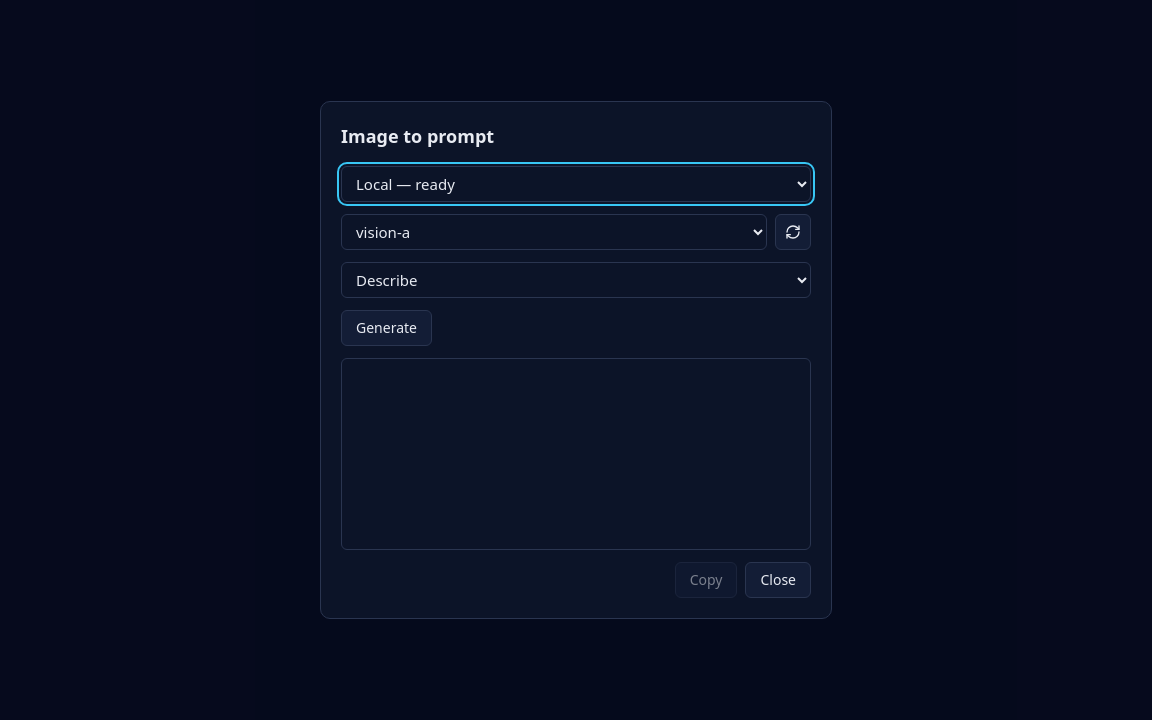
while running Generate is disabled and Cancel sends analysis:cancelDescribe; the late answer is dropped
Expected: the dropdown named "Prompt model" shows "vision-a", [341,214,767,250]
Click the button "Generate".
click(386, 328)  # box [341,310,432,346]
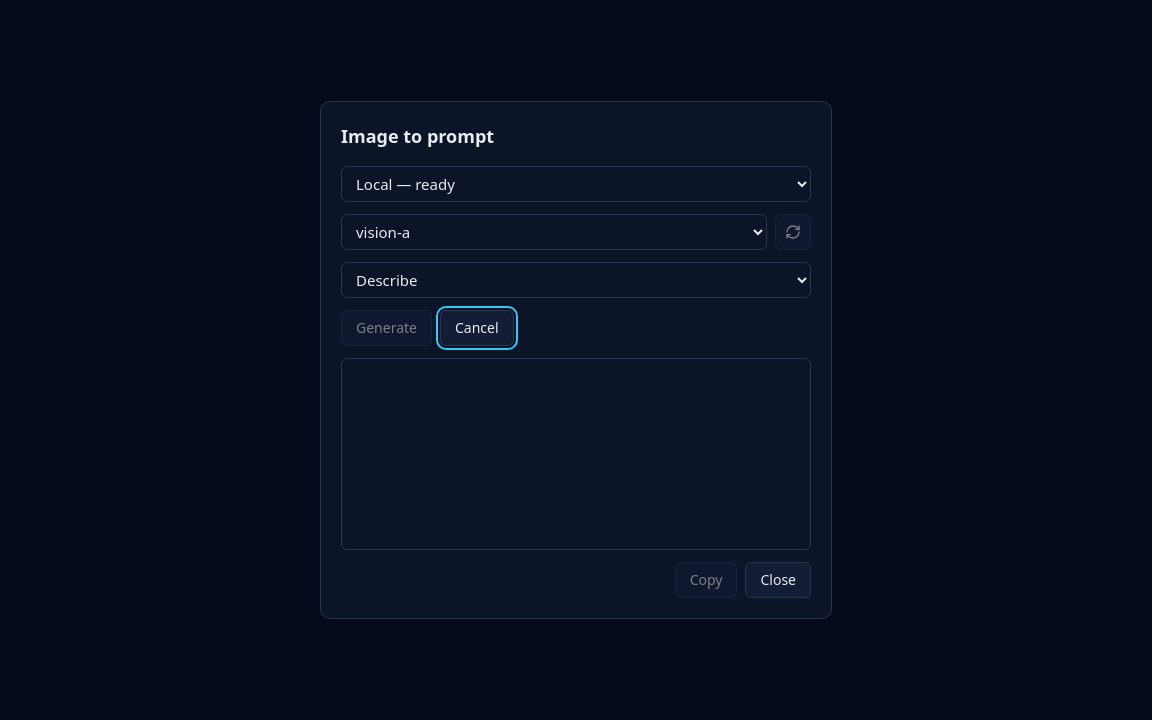
Result: the button "Generate" is disabled at [341,310,432,346]
Click the button "Cancel".
click(477, 328)  # box [440,310,514,346]
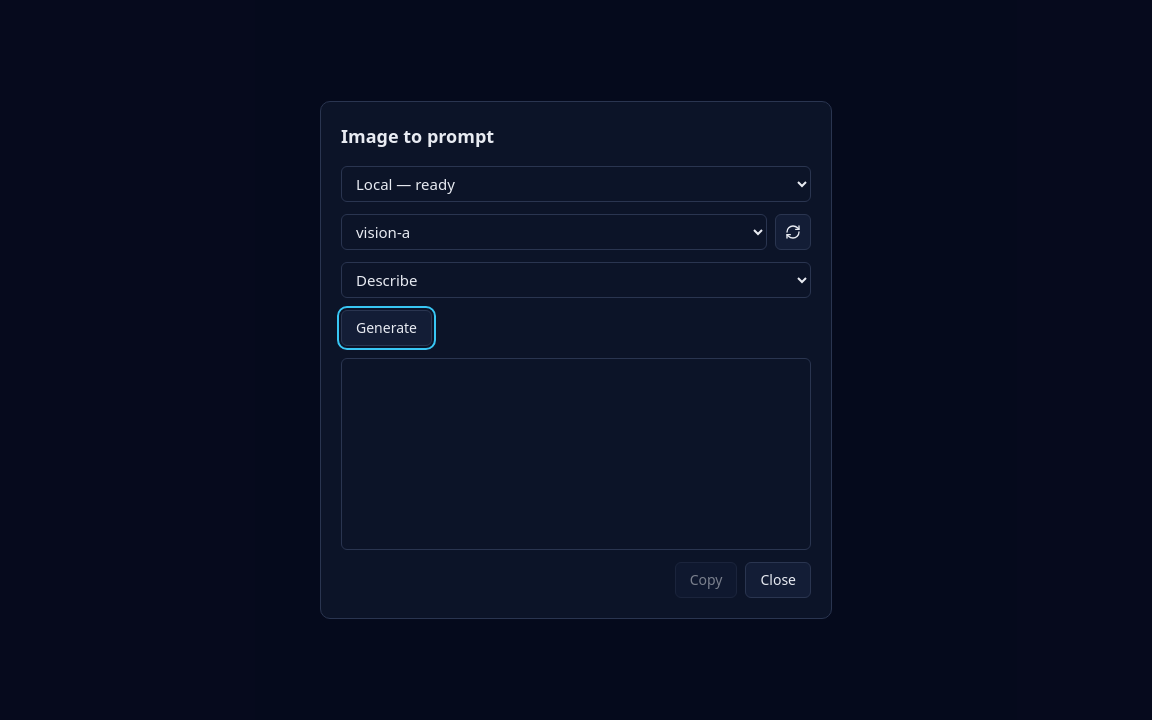
Expected: the text box named "Generated prompt" is empty, [341,358,811,550]
Result: the button "Generate" is enabled at [341,310,432,346]
Result: the button "Cancel" is gone
